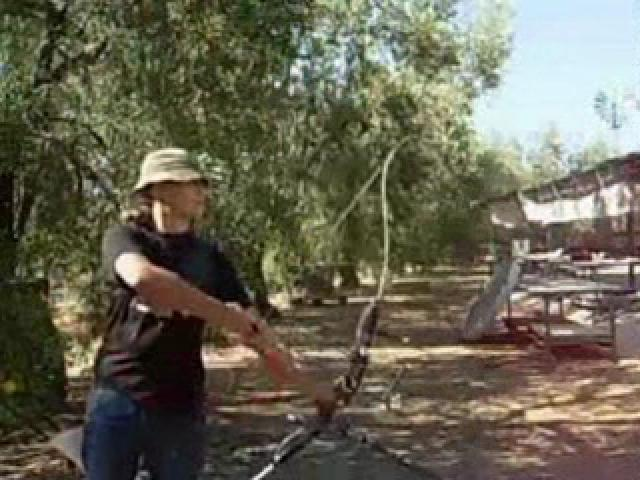I: (64, 140, 324, 474)
